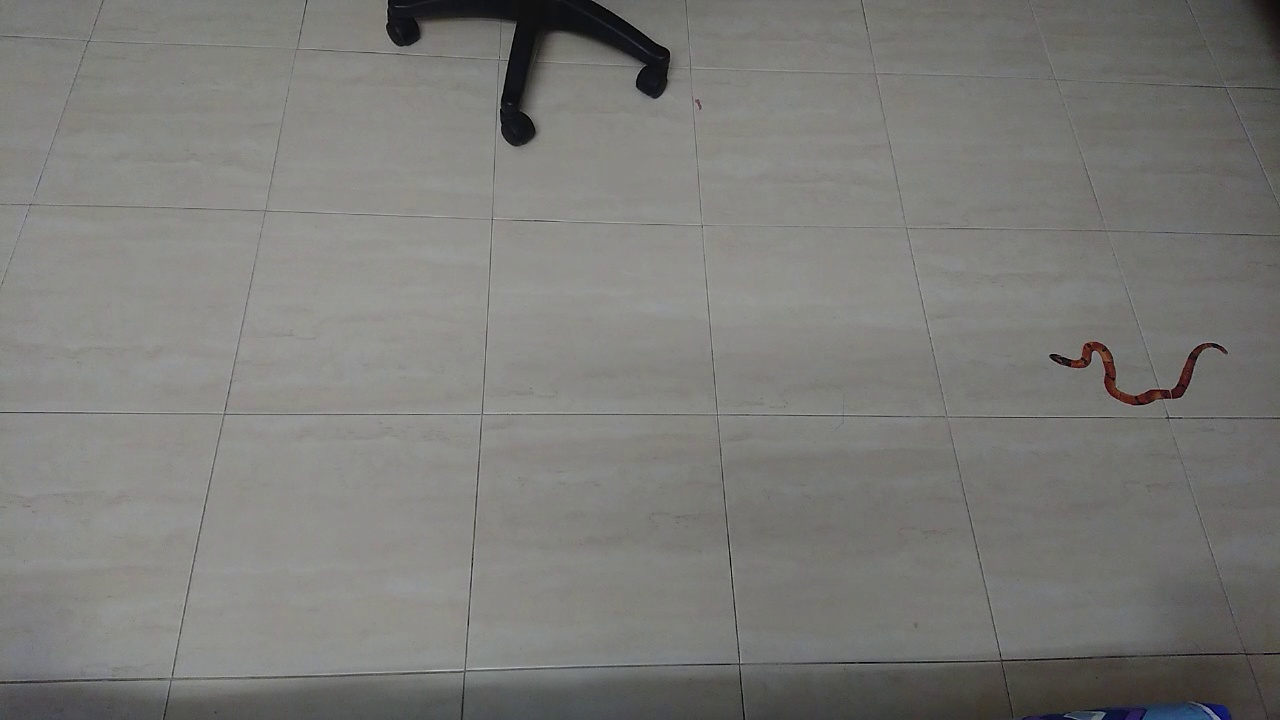snake: (1034, 323, 1242, 414)
